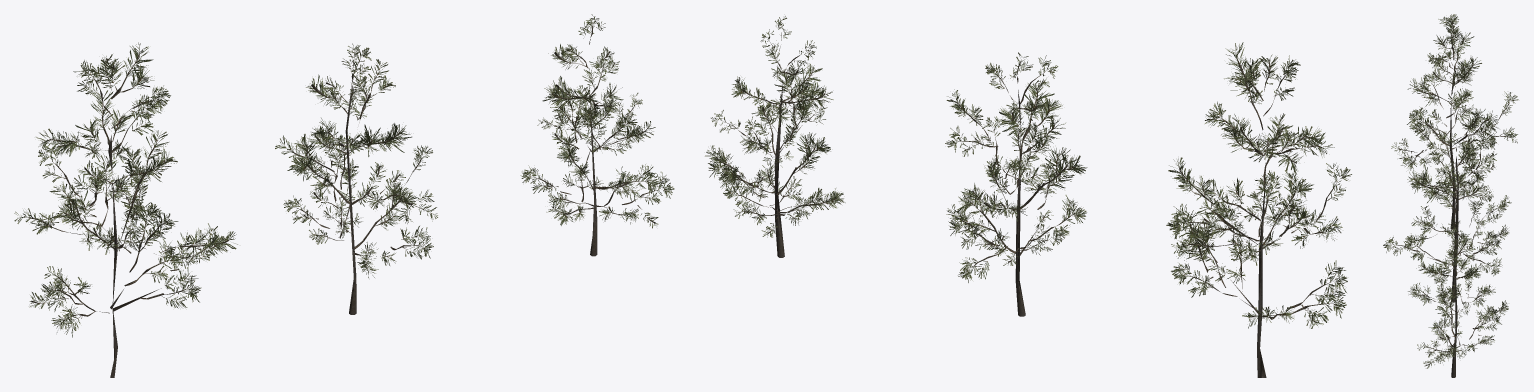
The model's file is pine.glb.
The picture shows the model from 3 angles, left to right: view 1: azimuth 30°, elevation 25°; view 2: azimuth 150°, elevation 25°; view 3: azimuth 270°, elevation 25°; orthographic projection. The views are drawn at different scales.
Parts seen in each view (by area): view 1: pine_sapling_small_a, pine_sapling_small_b, pine_sapling_small_c; view 2: pine_sapling_small_a, pine_sapling_small_b, pine_sapling_small_c; view 3: pine_sapling_small_a, pine_sapling_small_b, pine_sapling_small_c.
Boxes of the visible parts, left/top/right/bottom form: pine_sapling_small_a: left=14, top=42, right=237, bottom=377; pine_sapling_small_b: left=275, top=43, right=437, bottom=314; pine_sapling_small_c: left=520, top=14, right=674, bottom=256; pine_sapling_small_a: left=1166, top=42, right=1351, bottom=377; pine_sapling_small_b: left=945, top=52, right=1087, bottom=316; pine_sapling_small_c: left=705, top=16, right=845, bottom=257; pine_sapling_small_a: left=1391, top=14, right=1518, bottom=229; pine_sapling_small_b: left=1383, top=133, right=1511, bottom=302; pine_sapling_small_c: left=1408, top=221, right=1508, bottom=377.
Size of the model in its own units: 2.64 by 1.3 by 0.7699.
2 materials, 2 textured.
